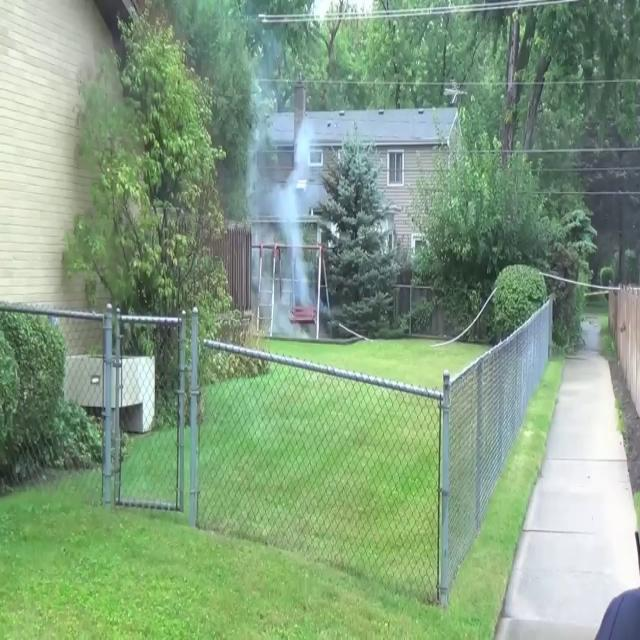Smoke: (232, 115, 318, 322)
